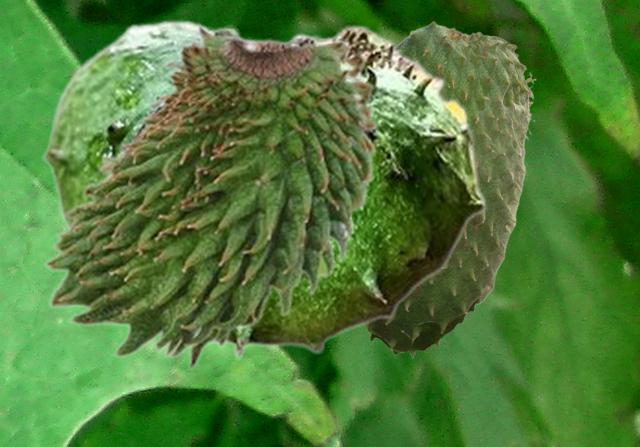guyabano: (42, 19, 486, 370), (42, 21, 379, 358), (365, 20, 535, 357)
